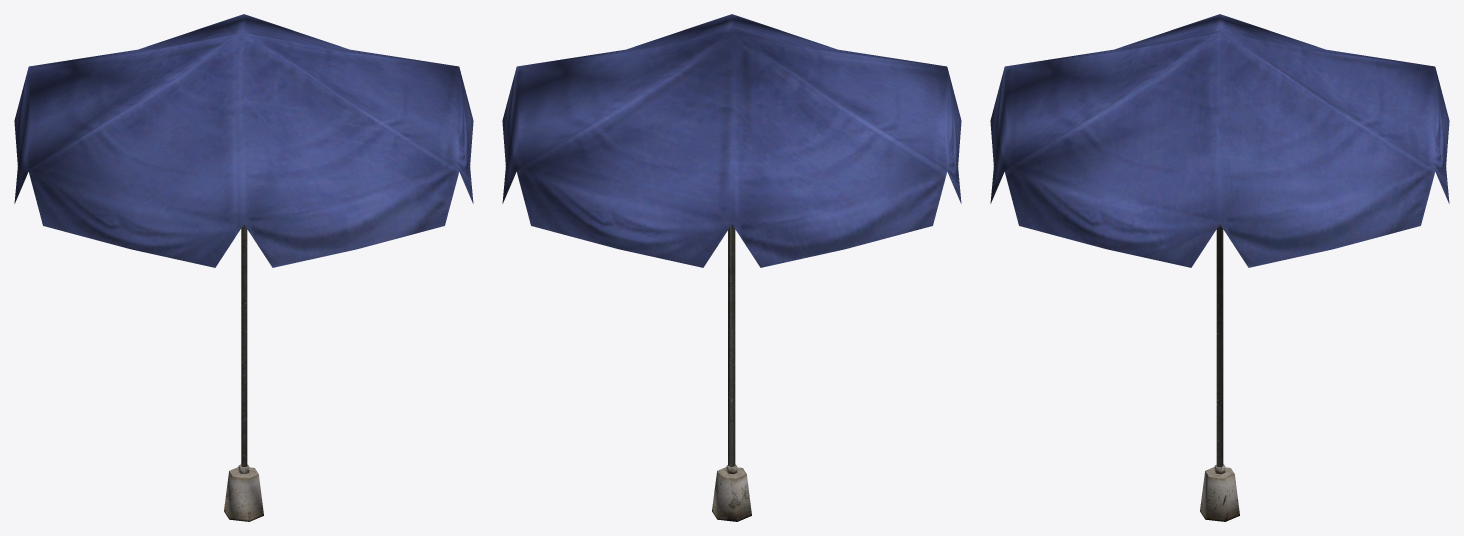
The model's file is Prop_Zys01.glb.
The picture shows the model from 3 angles, left to right: view 1: azimuth 30°, elevation 25°; view 2: azimuth 150°, elevation 25°; view 3: azimuth 270°, elevation 25°; orthographic projection.
Visible parts, largest first — view 1: lijiang_dj012a; view 2: lijiang_dj012a; view 3: lijiang_dj012a.
Boxes of the visible parts, bbox=[...] form: lijiang_dj012a: bbox=[14, 14, 473, 521]; lijiang_dj012a: bbox=[502, 14, 961, 521]; lijiang_dj012a: bbox=[990, 14, 1449, 521].
Size of the model in its own units: 6.33 by 6.76 by 5.84.
1 material, 1 textured.
